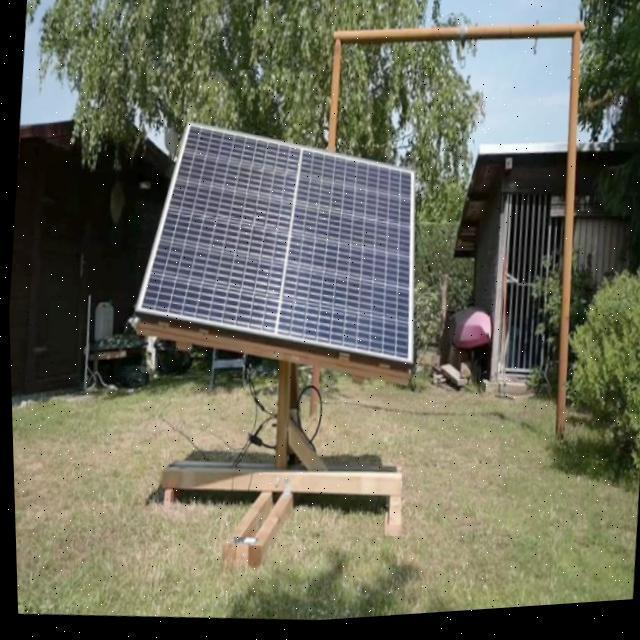Normal Solar Panel: (125, 110, 430, 384)
